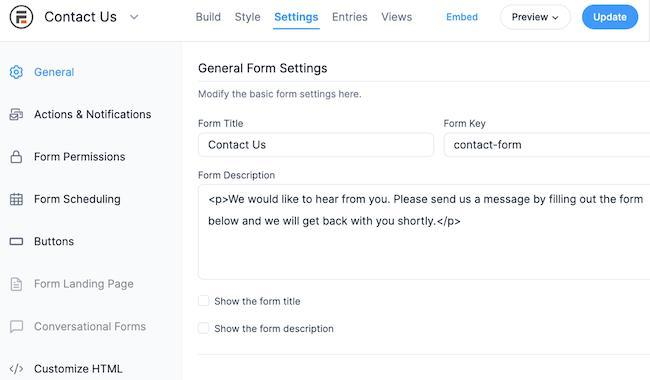button: (583, 5, 640, 31), (272, 10, 321, 31)
checkbox: (198, 323, 210, 334), (199, 296, 210, 307)
dropdown: (502, 5, 571, 30)
icon: (8, 6, 35, 30), (8, 188, 30, 212), (6, 315, 25, 338), (10, 358, 28, 380), (8, 277, 27, 296), (9, 107, 27, 126), (10, 149, 26, 169), (11, 65, 27, 82), (8, 235, 25, 250)
input: (201, 133, 436, 157), (445, 133, 650, 158)
label: (198, 63, 331, 79), (33, 319, 150, 337), (34, 108, 157, 123), (33, 277, 138, 293), (215, 324, 337, 336), (35, 362, 126, 378), (34, 193, 126, 208), (34, 152, 130, 166), (215, 296, 305, 310), (196, 170, 279, 183), (195, 117, 251, 131), (33, 64, 79, 80), (35, 236, 80, 251), (192, 8, 226, 26), (381, 9, 418, 25), (443, 118, 488, 130), (232, 10, 262, 26), (331, 13, 370, 25), (445, 13, 481, 25)
